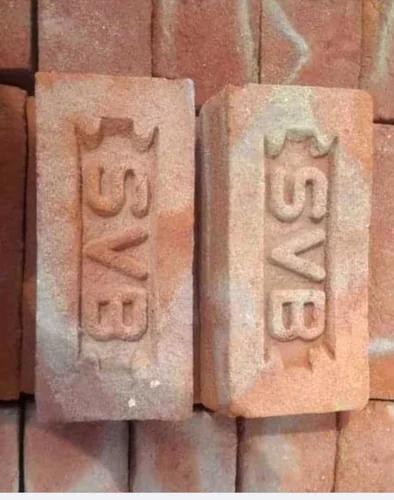brick: (34, 74, 196, 428), (232, 83, 372, 416), (154, 0, 260, 105), (259, 0, 365, 84), (38, 1, 152, 73), (134, 416, 235, 495), (22, 420, 128, 494), (240, 415, 339, 492), (339, 399, 393, 491)
